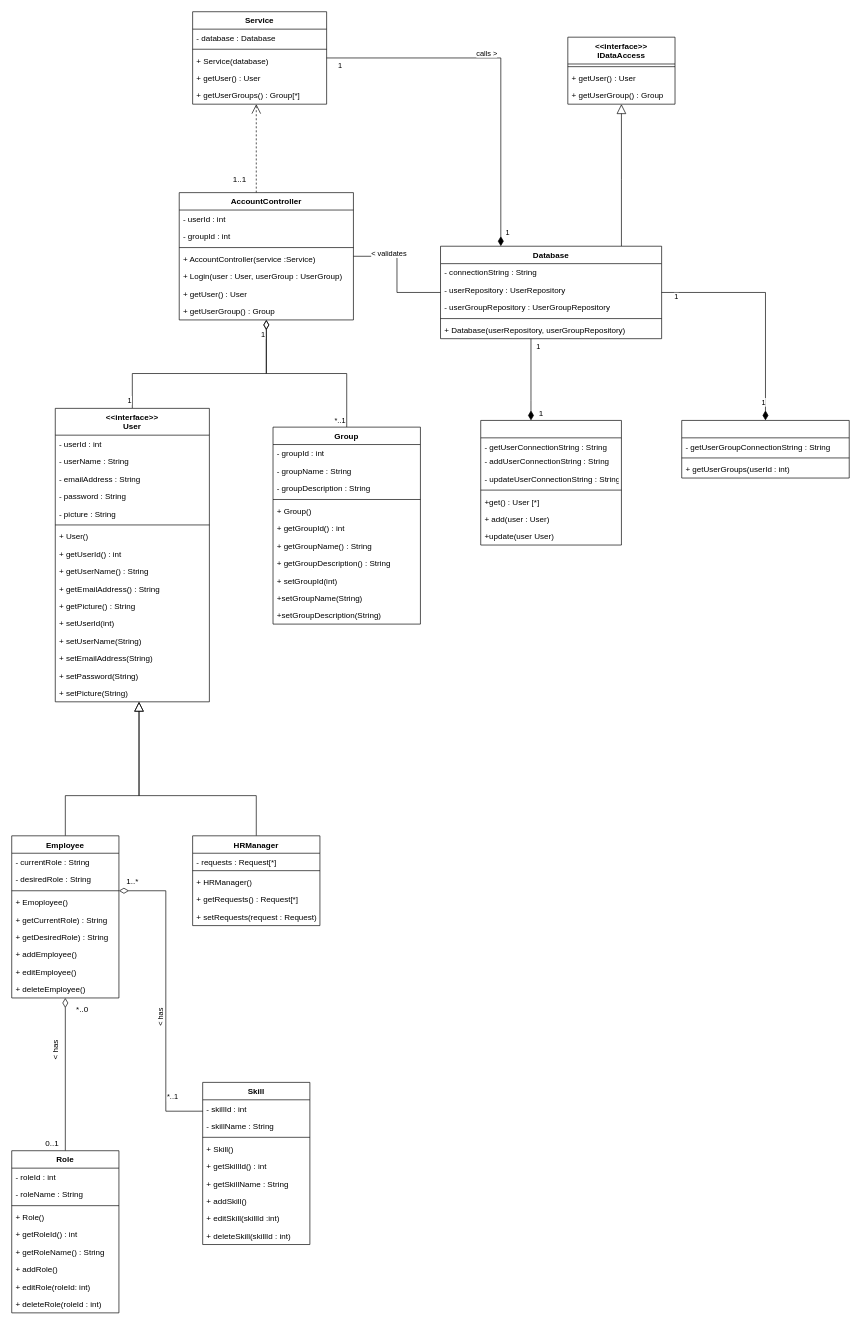
The diagram is 861 pixels wide and 1327 high, and some of its shapes have lost their labels. Each missing label, with the box of its shape:
UserGroupRepository: (681, 420, 849, 478)
UserRepository: (480, 420, 621, 545)
